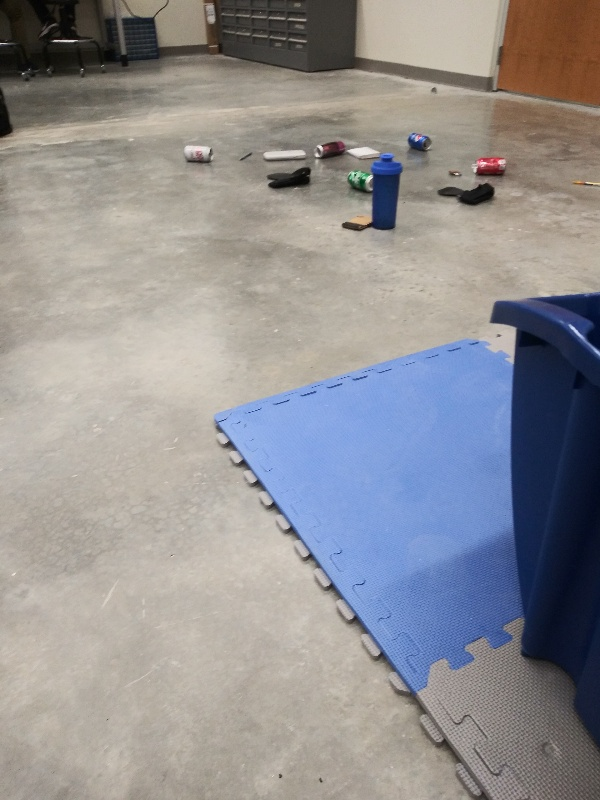can: (470, 155, 510, 177), (344, 168, 374, 194), (311, 140, 348, 160), (181, 143, 215, 163), (406, 130, 433, 153)
